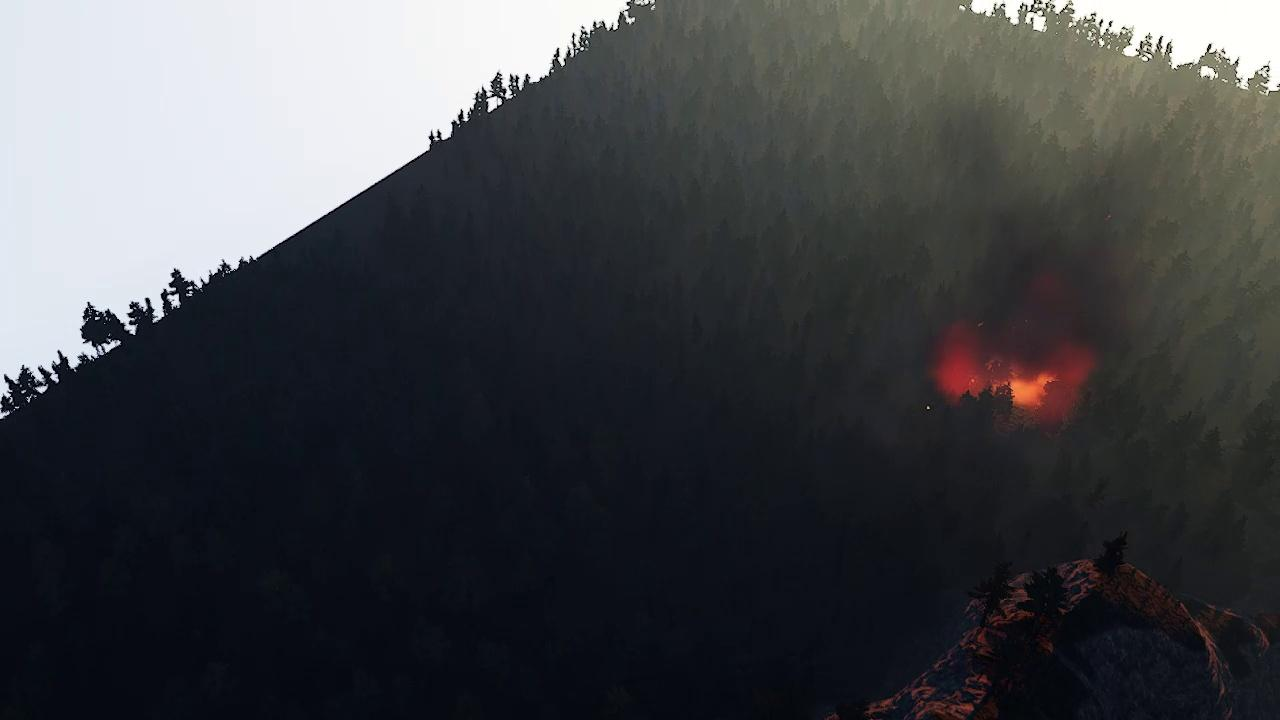fire: (933, 324, 1087, 412)
smoke: (941, 86, 1134, 374)
